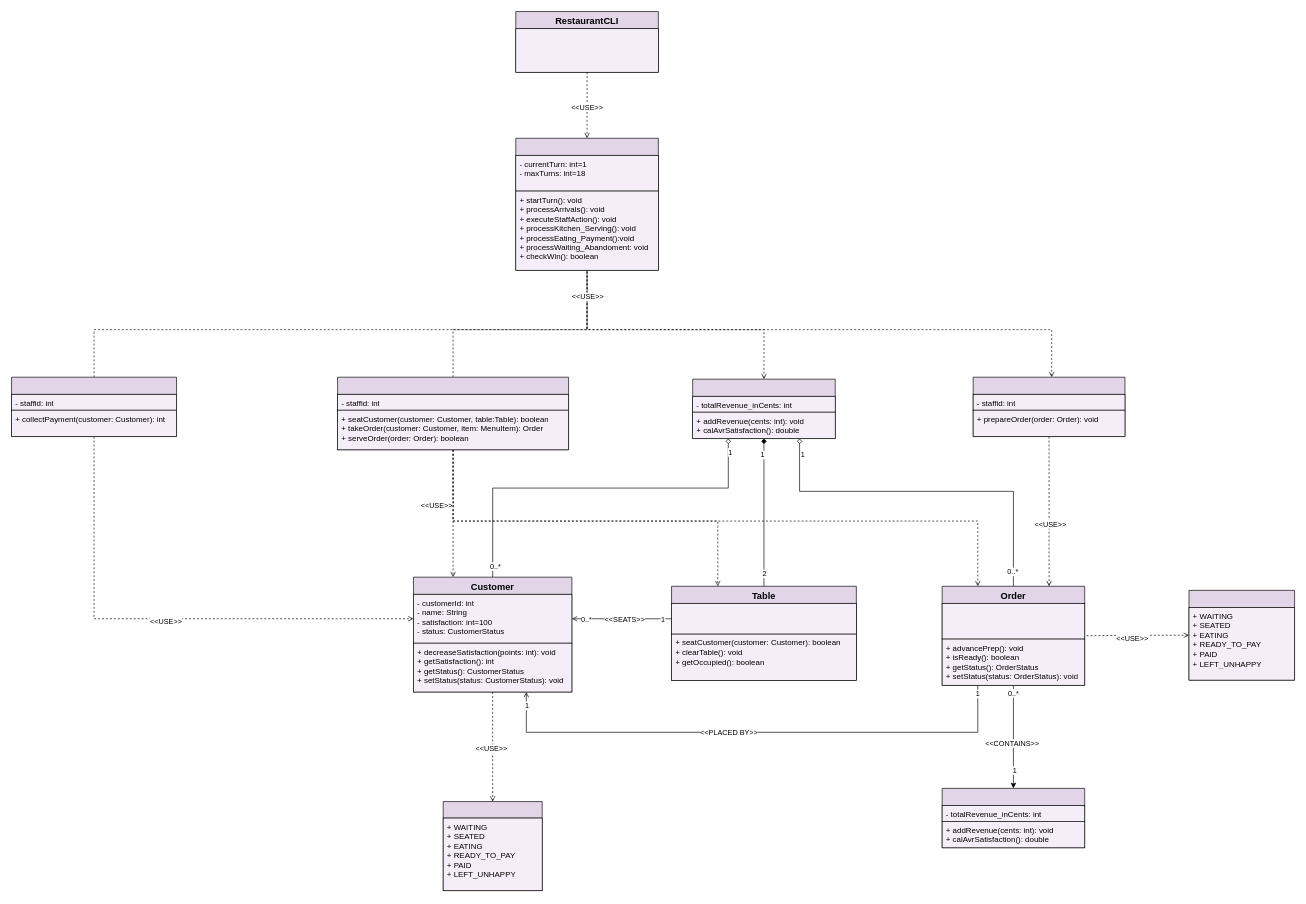
Some shapes in this 1306 by 904 pixel diagram are drawn without their labels. Each missing label, with the box of its shape:
+ displayTurnOverview(): void + askManager(): void + displayFinalSummary(): void: (515, 28, 658, 72)
- orderId: int - prepUnitsCompleted: int=0 - status: OrderStatus: (941, 603, 1085, 639)
- tableId: int - occupied: boolean: (671, 603, 856, 634)
Cashier: (11, 377, 177, 437)
Chef: (973, 377, 1125, 437)
CustomerStatus: (443, 801, 542, 891)
MenuItem: (941, 788, 1085, 848)
OrderStatus: (1188, 590, 1295, 680)
Restaurant: (692, 379, 835, 439)
RestaurantController: (515, 138, 658, 270)
Waiter: (337, 377, 569, 450)
